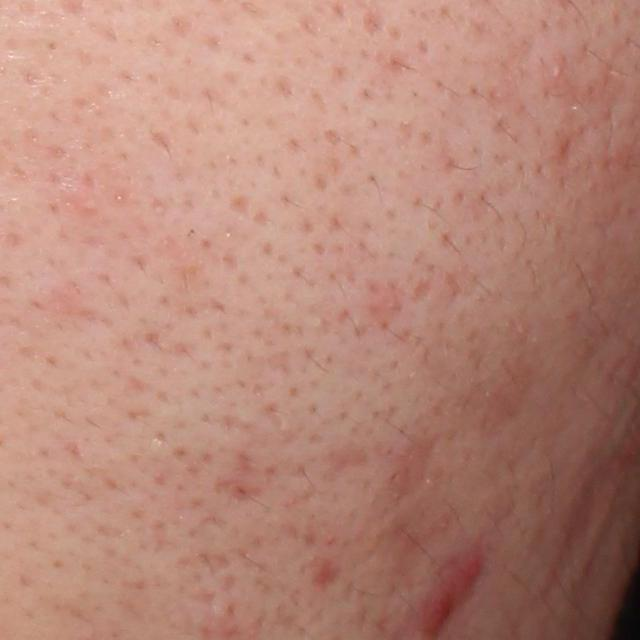atrophic_scar: (535, 453, 619, 592), (377, 509, 462, 618), (545, 54, 624, 169), (371, 429, 439, 528), (315, 439, 373, 482), (209, 473, 266, 504), (192, 550, 232, 579)
papule: (455, 546, 485, 590)
